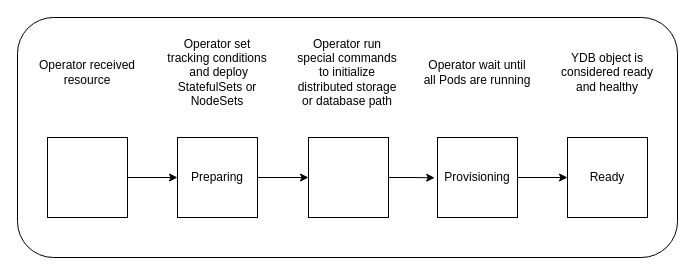
The diagram is 695 pixels wide and 275 high, and some of its shapes have lost their labels. The centre of each missing label's shape, as x and y in pixels:
Initializing: the point at 348,177
Pending: the point at 87,177
